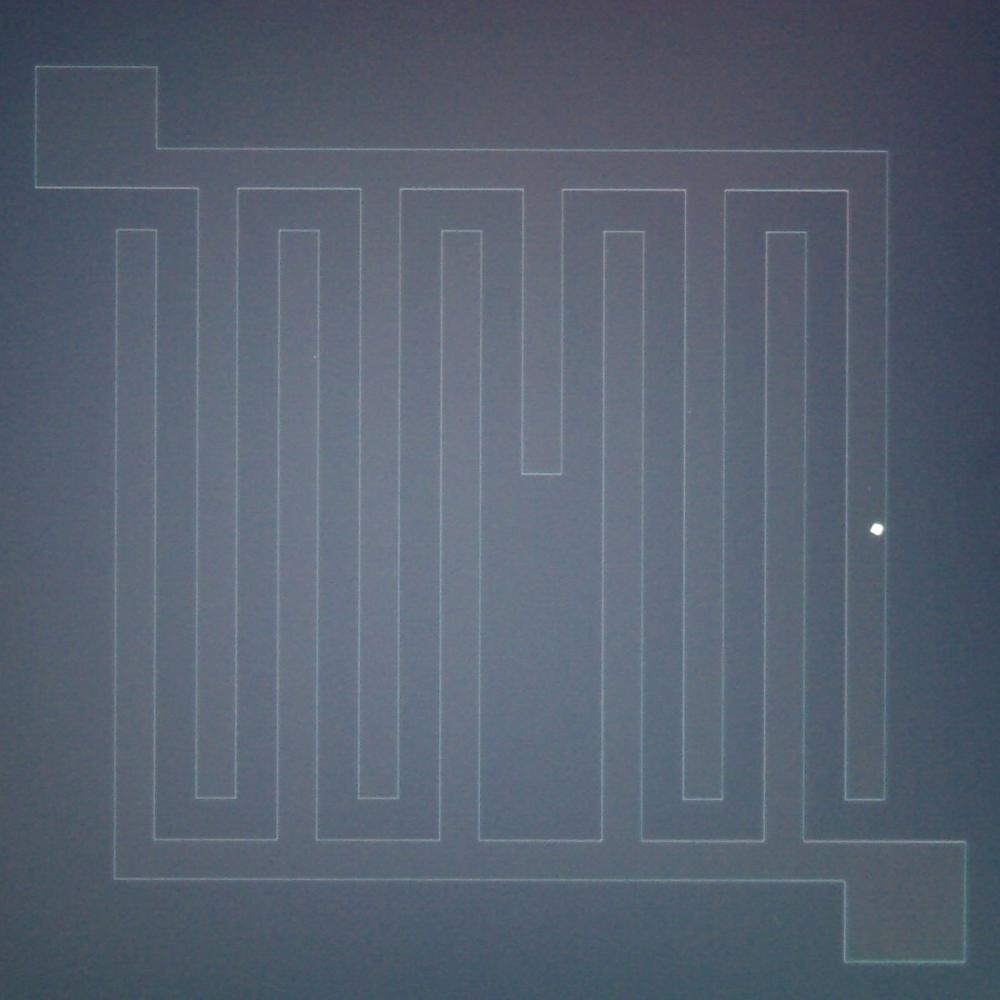dot: (869, 523, 883, 535), (312, 354, 316, 358)
